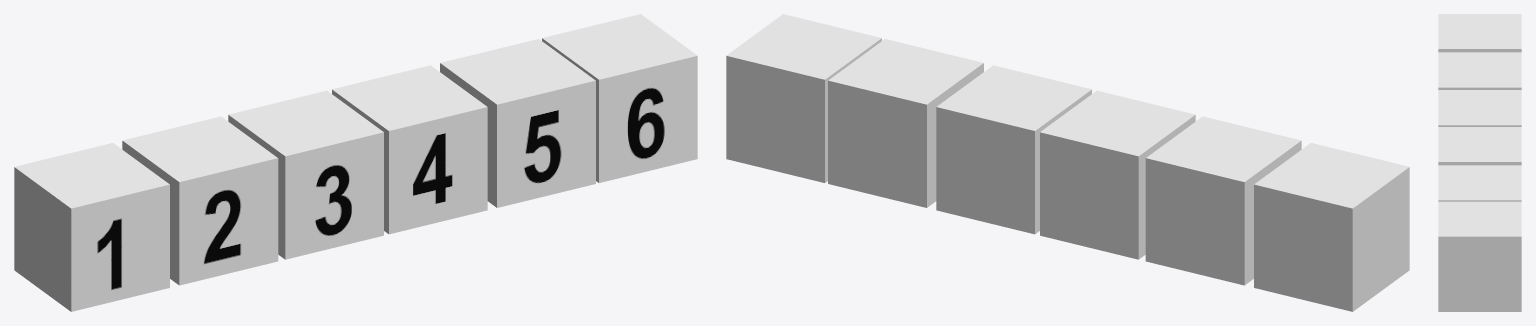
The model's file is numbers.fbx.
3 renders of one model, left to right at view 1: azimuth 30°, elevation 25°; view 2: azimuth 150°, elevation 25°; view 3: azimuth 270°, elevation 25°, orthographic. The views are drawn at different scales.
Visible parts, largest first — view 1: pCube6, pCube2, pCube4, pCube1, pCube3, pCube5; view 2: pCube6, pCube2, pCube4, pCube1, pCube3, pCube5; view 3: pCube5, pCube3, pCube6, pCube2, pCube1, pCube4.
Boxes of the visible parts, box(x1,y1,x2,y2) form: pCube6: box(14, 143, 169, 311); pCube2: box(122, 116, 278, 285); pCube4: box(440, 39, 595, 207); pCube1: box(228, 90, 383, 259); pCube3: box(332, 65, 487, 234); pCube5: box(542, 14, 697, 182); pCube6: box(1254, 143, 1409, 311); pCube2: box(1145, 116, 1301, 285); pCube4: box(828, 39, 983, 207); pCube1: box(1040, 90, 1195, 259); pCube3: box(936, 65, 1091, 234); pCube5: box(726, 14, 881, 182); pCube5: box(1438, 201, 1521, 311); pCube3: box(1438, 127, 1521, 165); pCube6: box(1438, 14, 1521, 52); pCube2: box(1438, 52, 1521, 89); pCube1: box(1438, 90, 1521, 126); pCube4: box(1438, 165, 1521, 201).
Bounding box in the file's own units: 634 × 100 × 100.
Materials: 1 (1 with a texture image).
